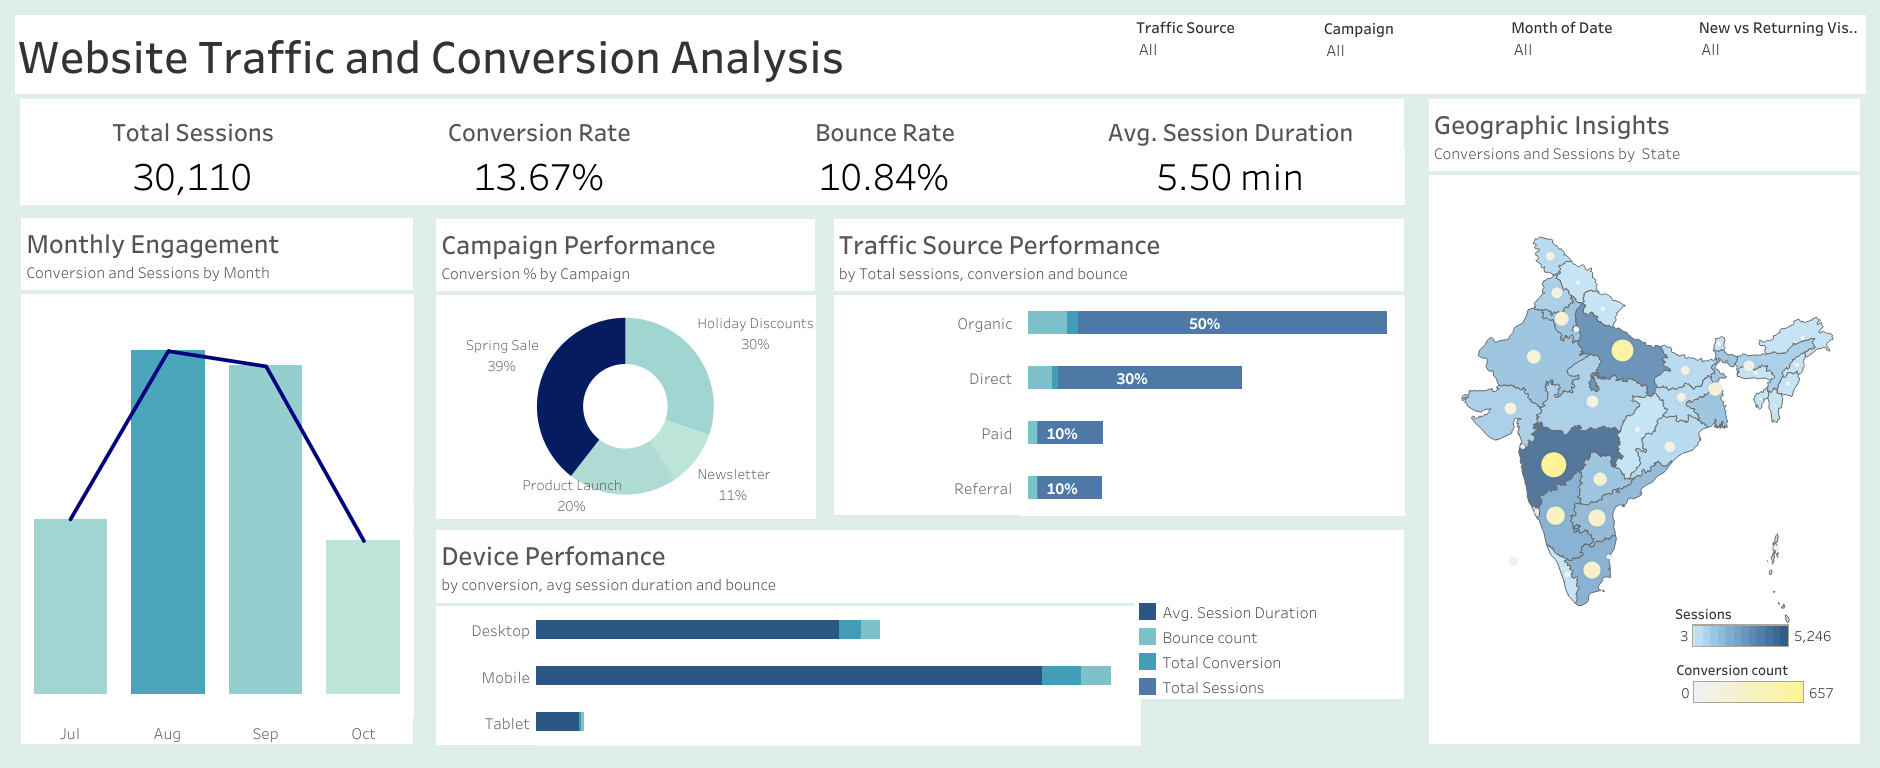

The dashboard page shown, as its layout file describes it:
{"tool":"tableau","page":{"name":"Dashboard_Website traffic and conversion analysis","canvas":[1000,1000],"units":"permille","ordinal":0},"visuals":[{"type":"title","box":[4.9,10.5,990.1,93.4]},{"type":"filter","title":"Traffic Source Performance","param":"[federated.1fl5uc219oy6cw17dafc112s6m2m].[none:Traffic Source:nk]","box":[603.7,17.1,98.8,72.4]},{"type":"filter","title":"Traffic Source Performance","param":"[federated.1fl5uc219oy6cw17dafc112s6m2m].[none:New vs Returning Visitors:nk]","box":[903.1,17.1,86.4,93.4]},{"type":"filter","title":"Traffic Source Performance","param":"[federated.1fl5uc219oy6cw17dafc112s6m2m].[mn:Date:ok]","box":[803.1,18.4,98.8,67.1]},{"type":"filter","title":"Traffic Source Performance","param":"[federated.1fl5uc219oy6cw17dafc112s6m2m].[none:Campaign:nk]","box":[703.7,19.7,98.8,65.8]},{"type":"worksheet","title":"KPIs","mark":"Automatic","box":[10.5,128.9,735.8,136.8]},{"type":"worksheet","title":"Geographic Insights","mark":"Automatic","box":[759.3,128.9,229.6,838.2]},{"type":"worksheet","title":"Monthly Engagement","mark":"Bar","rows":["Sessions","Sessions"],"cols":["Date"],"box":[11.1,282.9,208,684.2]},{"type":"worksheet","title":"Campaign Performance","mark":"Pie","rows":["Calculation_692428455504379910","Calculation_692428455504379910"],"box":[232.1,284.2,201.2,388.2]},{"type":"worksheet","title":"Traffic Source Performance","mark":"Automatic","rows":["Traffic Source"],"box":[443.2,284.2,303.1,385.5]},{"type":"worksheet","title":"Device Perfomance","mark":"Bar","rows":["Device Type"],"box":[232.1,689.5,374.1,278.9]},{"type":"worksheet","title":"For all lengends","mark":"Square","box":[401.9,689.5,29,28.9]},{"type":"legend","title":"For all lengends","param":"[federated.1fl5uc219oy6cw17dafc112s6m2m].[:Measure Names]","box":[603.1,689.5,143.2,278.9]},{"type":"legend","title":"Geographic Insights","param":"[federated.1fl5uc219oy6cw17dafc112s6m2m].[sum:Sessions:qk]","box":[890.1,779.3,86.4,76.1]},{"type":"legend","title":"Geographic Insights","param":"[federated.1fl5uc219oy6cw17dafc112s6m2m].[sum:Calculation_1260163479849799681:qk","box":[891.4,851.3,86.4,67.1]}]}

Visuals, with their boxes on the dashboard's canvas, which has no fixed pixel size, in thousandths of its width and height (x1, y1, x2, y2). These are canvas units, not pixel positions in the 1880x768 screenshot, which may show the page scaled, cropped or inside an application window:
title: <box>5,10,995,104</box>
"Traffic Source Performance" filter: <box>604,17,702,90</box>
"Traffic Source Performance" filter: <box>903,17,990,110</box>
"Traffic Source Performance" filter: <box>803,18,902,86</box>
"Traffic Source Performance" filter: <box>704,20,802,86</box>
"KPIs" worksheet: <box>10,129,746,266</box>
"Geographic Insights" worksheet: <box>759,129,989,967</box>
"Monthly Engagement" worksheet (Bar marks): <box>11,283,219,967</box>
"Campaign Performance" worksheet (Pie marks): <box>232,284,433,672</box>
"Traffic Source Performance" worksheet: <box>443,284,746,670</box>
"Device Perfomance" worksheet (Bar marks): <box>232,690,606,968</box>
"For all lengends" worksheet (Square marks): <box>402,690,431,718</box>
"For all lengends" legend: <box>603,690,746,968</box>
"Geographic Insights" legend: <box>890,779,976,855</box>
"Geographic Insights" legend: <box>891,851,978,918</box>
